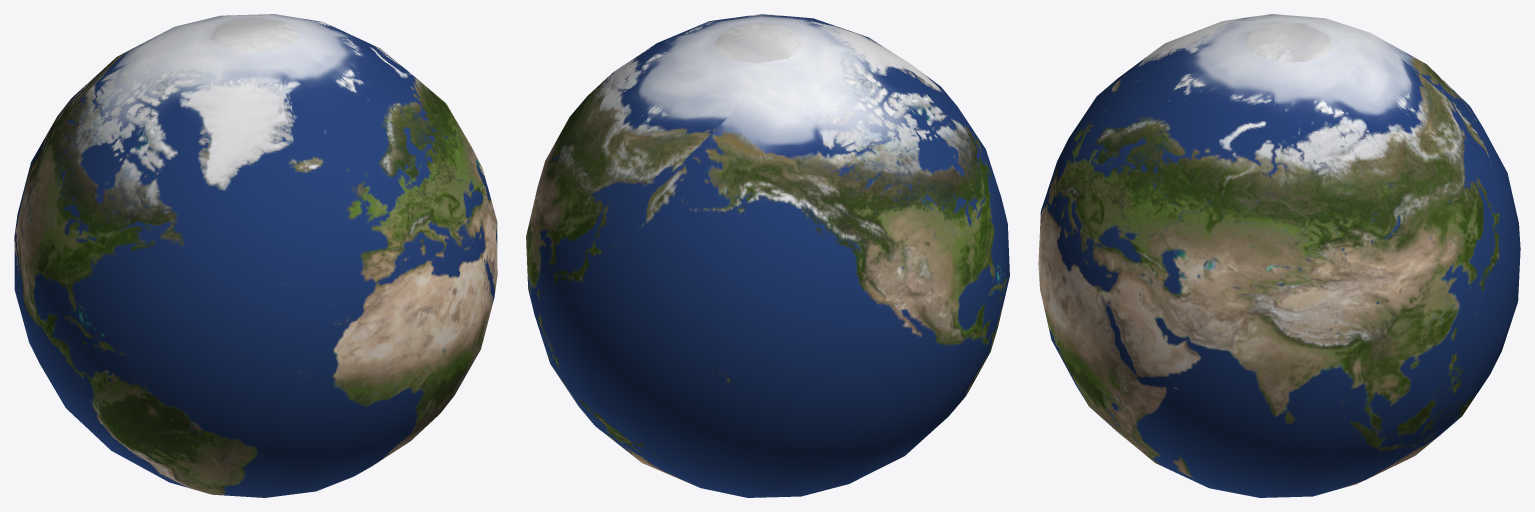
File: earth.fbx
The picture shows the model from 3 angles, left to right: view 1: azimuth 30°, elevation 25°; view 2: azimuth 150°, elevation 25°; view 3: azimuth 270°, elevation 25°; orthographic projection.
Parts seen in each view (by area): view 1: Globe; view 2: Globe; view 3: Globe.
Part boxes in pixels (left/top/right/bottom): Globe: left=14, top=14, right=497, bottom=497; Globe: left=526, top=14, right=1009, bottom=497; Globe: left=1038, top=14, right=1520, bottom=497.
Bounding box in the file's own units: 110 × 111 × 110.
Materials: 1 (1 with a texture image).
